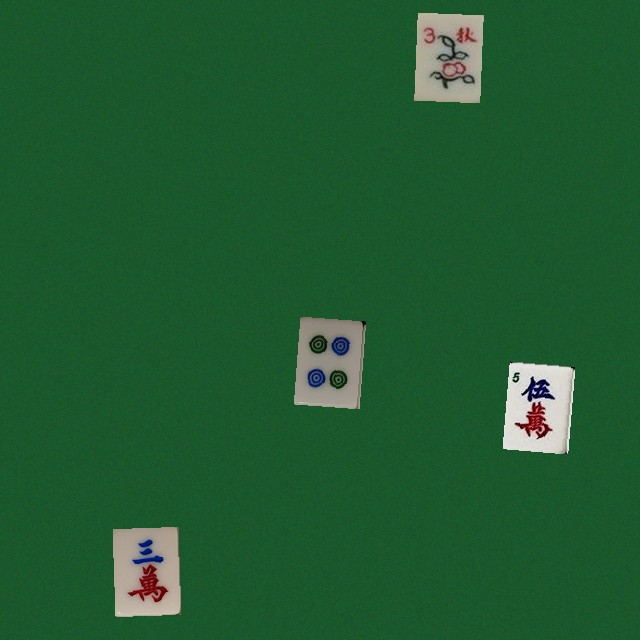tile: (414, 12, 480, 100), (502, 361, 568, 449), (112, 526, 178, 614), (293, 316, 359, 404)
